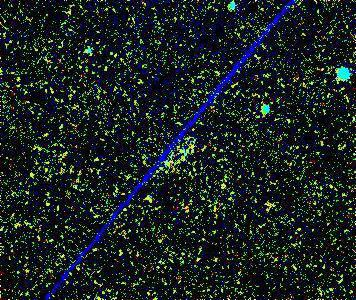star: (253, 193, 283, 223)
